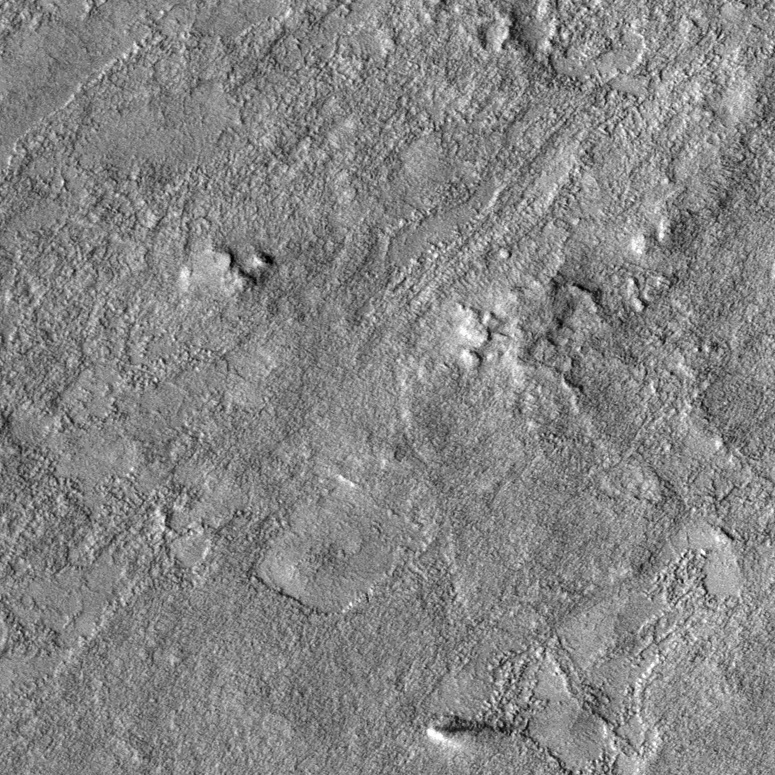dust_devil: (424, 713, 508, 749)
